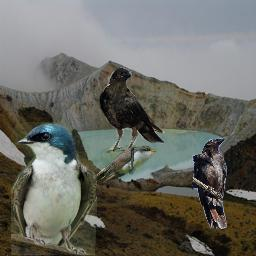Crow: (98, 67, 165, 153), (192, 137, 227, 229)
Cuckoo: (80, 145, 156, 185)
Swallow: (11, 122, 97, 255)
